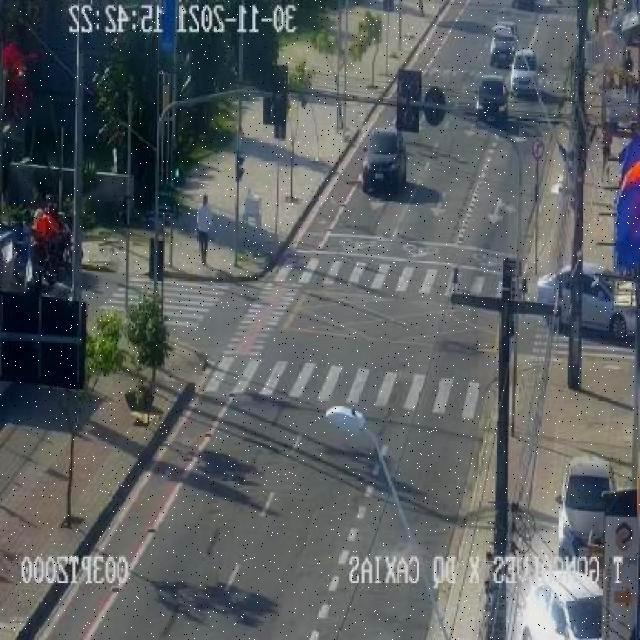Car: (510, 556, 615, 640), (529, 259, 633, 341), (551, 448, 620, 564), (360, 127, 413, 196), (472, 74, 516, 132), (510, 50, 546, 94), (488, 22, 516, 72)
Cycle: (33, 203, 85, 280)
